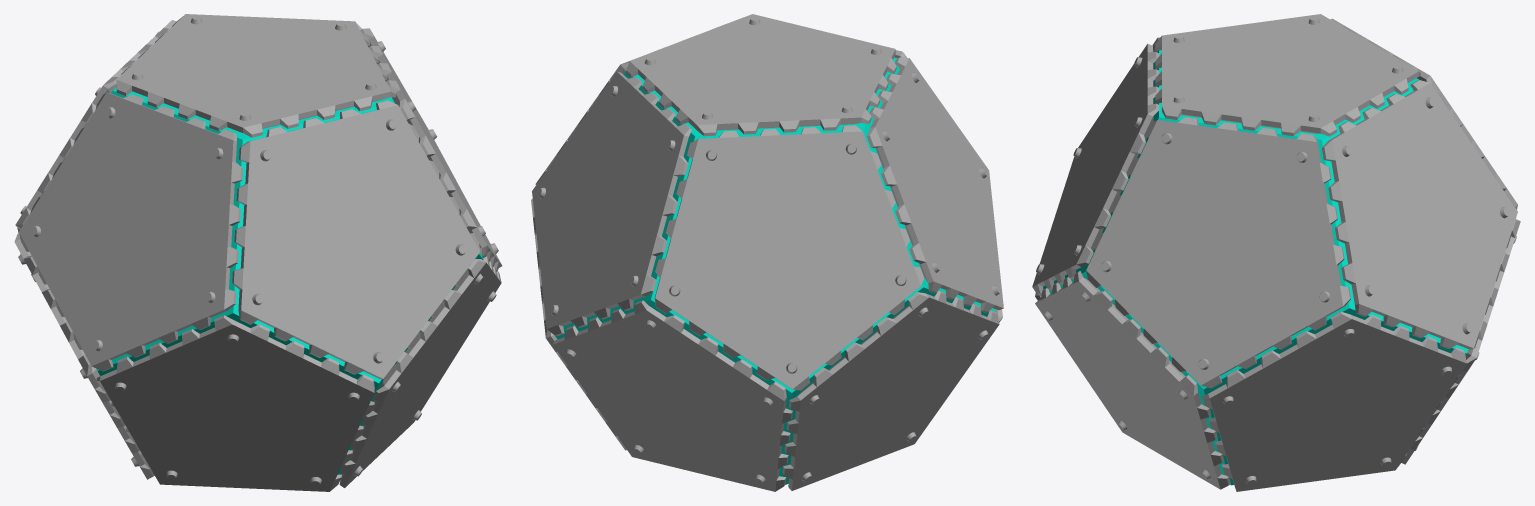
The model's file is Reactor.fbx.
3 renders of one model, left to right at view 1: azimuth 30°, elevation 25°; view 2: azimuth 150°, elevation 25°; view 3: azimuth 270°, elevation 25°, orthographic. The views are drawn at different scales.
Parts seen in each view (by area): view 1: ReactorPlates, ReactorGlow, ReactorBolts; view 2: ReactorPlates, ReactorGlow, ReactorBolts; view 3: ReactorPlates, ReactorGlow, ReactorBolts.
Part boxes in pixels (x1,y1,x2,y2): ReactorPlates: [14, 14, 502, 491]; ReactorGlow: [96, 87, 483, 474]; ReactorBolts: [18, 16, 498, 486]; ReactorPlates: [531, 14, 1003, 491]; ReactorGlow: [555, 57, 995, 484]; ReactorBolts: [537, 17, 1000, 484]; ReactorPlates: [1032, 14, 1520, 491]; ReactorGlow: [1043, 50, 1468, 485]; ReactorBolts: [1036, 17, 1516, 485].
Bounding box in the file's own units: 108 × 93.34 × 114.
